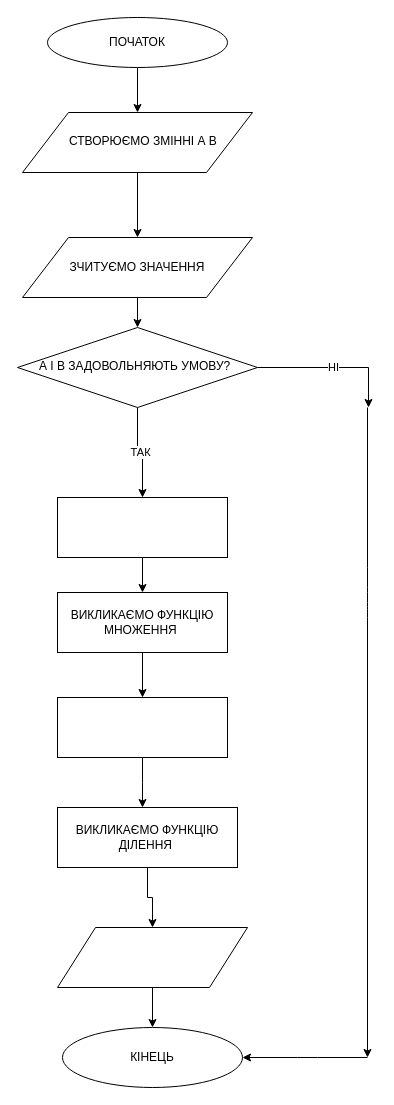
Image size: 394x1105. Some labels were removed from this diagram. Each missing label, with the centre of its shape:
"ВИВОДИМО РЕЗУЛЬТАТ" belongs at [152,957].
"ВИКЛИКАЄМО ФУНКЦІЮ СУМИ" belongs at [142,727].
"ВИКЛИКАЄМО ФУНКЦІЮ ФАКТОРІАЛУ" belongs at [142,527].
